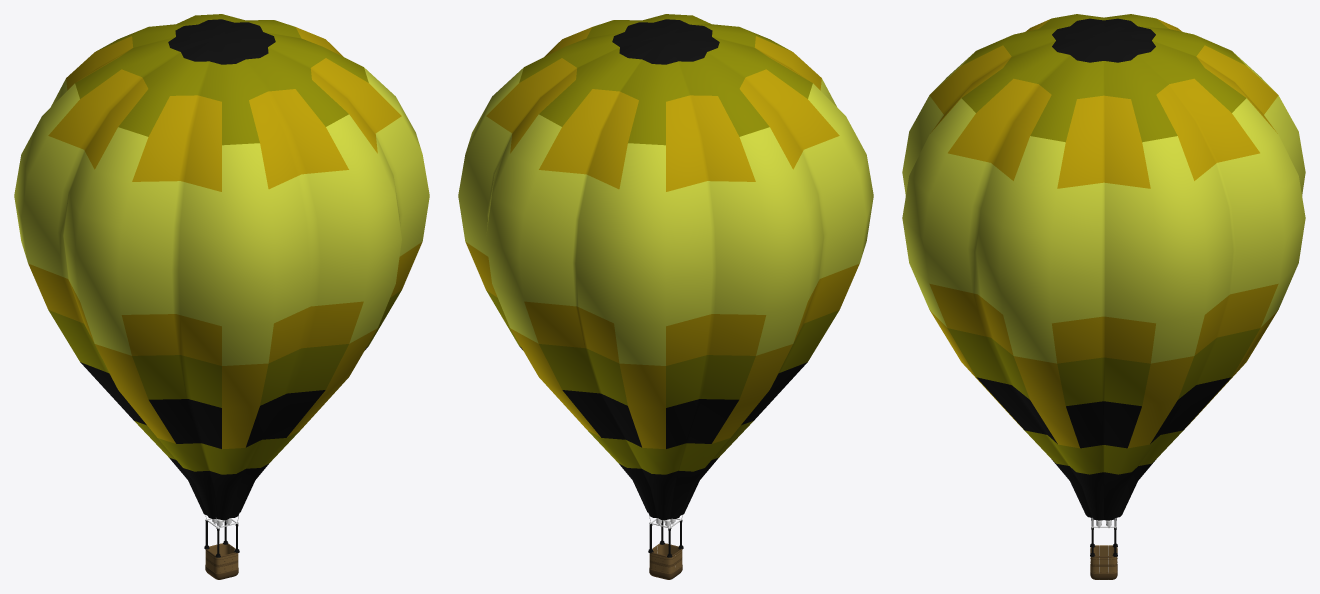
File: yellow.glb
3 views of the same model, side by side, from view 1: azimuth 30°, elevation 25°; view 2: azimuth 150°, elevation 25°; view 3: azimuth 270°, elevation 25° (orthographic).
Parts seen in each view (by area): view 1: Sphere, Circle; view 2: Sphere, Circle; view 3: Sphere, Circle.
Boxes of the visible parts, box(x1,y1,x2,y2) form: Sphere: box(14, 14, 429, 519); Circle: box(204, 515, 239, 579); Sphere: box(458, 14, 873, 519); Circle: box(648, 515, 683, 579); Sphere: box(902, 14, 1305, 520); Circle: box(1090, 517, 1117, 579).
Size of the model in its own units: 22.42 by 33.16 by 22.42.
